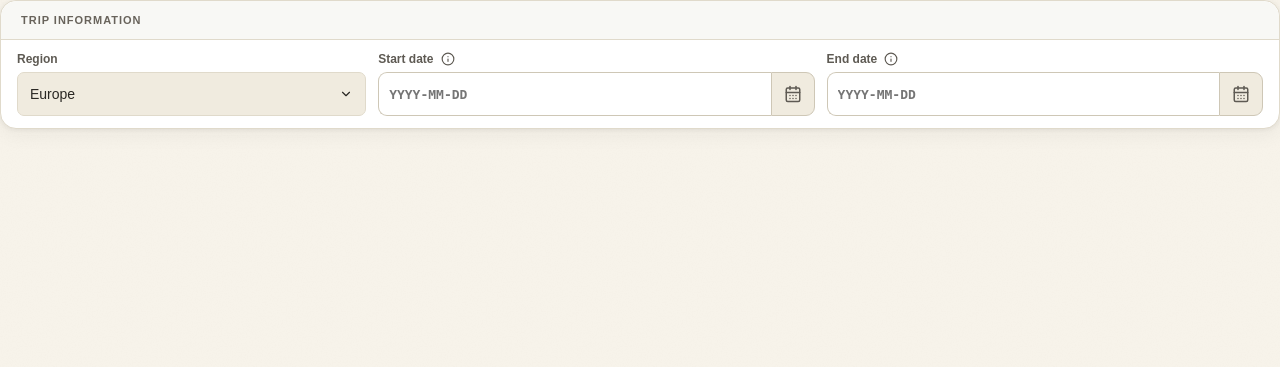
Test case: RegionSelector › FE-REG-002 renders all region options
Click the dropdown named "Region". click: (53, 94)
box: [17,72,366,116]
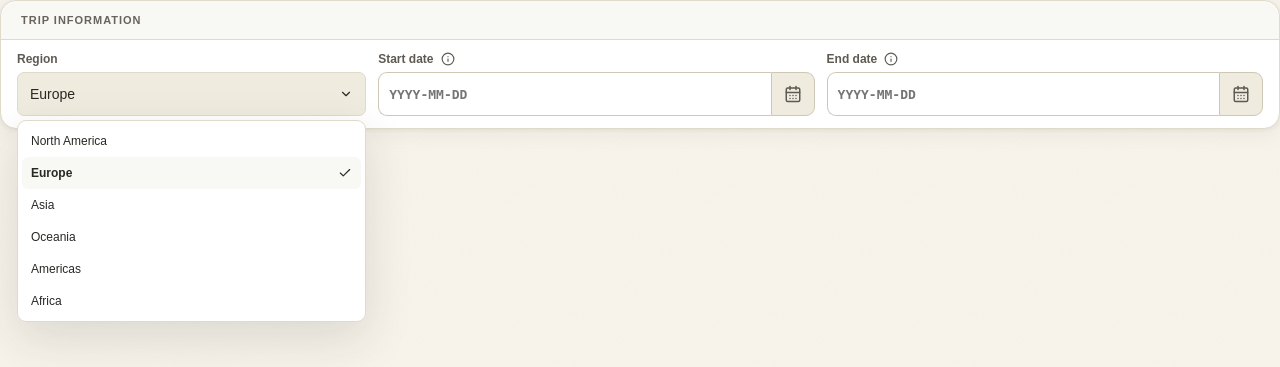
expect the options read "North America", "Europe", "Asia", "Oceania", "Americas", "Africa", in this order: met, box [22,125,361,157]; [22,157,361,189]; [22,189,361,221]; [22,221,361,253]; [22,253,361,285]; [22,285,361,317]
